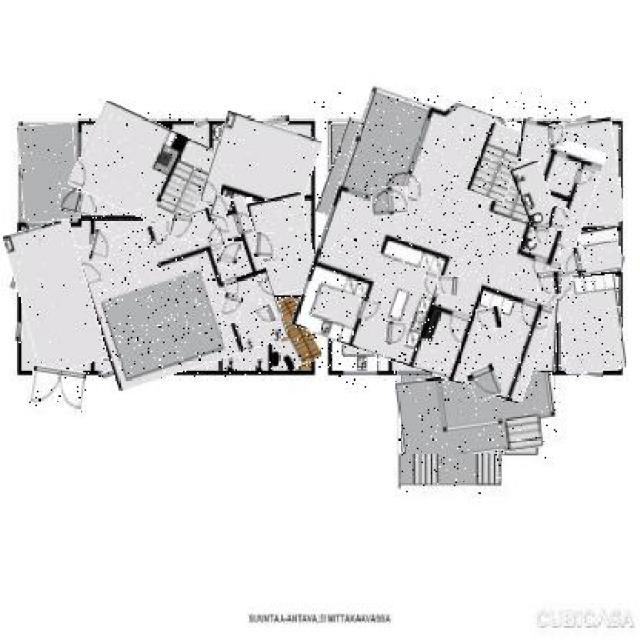door: (29, 368, 86, 414), (469, 366, 500, 400), (372, 188, 408, 215), (58, 191, 97, 214), (538, 271, 572, 294), (560, 248, 586, 275), (220, 292, 242, 323), (91, 230, 112, 262), (220, 240, 242, 269), (477, 306, 500, 331), (256, 232, 276, 258), (171, 214, 192, 238), (386, 322, 406, 344), (256, 304, 276, 324), (551, 208, 569, 230), (211, 196, 229, 218), (437, 277, 458, 295), (548, 126, 564, 148), (534, 226, 549, 245)
window: (406, 99, 466, 123), (12, 244, 28, 290), (325, 244, 337, 294), (248, 117, 289, 129), (558, 117, 592, 129), (506, 368, 543, 378), (565, 368, 603, 377), (338, 220, 372, 229), (24, 222, 64, 229), (388, 129, 392, 194), (397, 370, 432, 376), (102, 368, 123, 377), (503, 120, 532, 126), (196, 117, 210, 128), (17, 322, 23, 340), (618, 255, 624, 272), (328, 329, 334, 345), (457, 372, 469, 376)
zone: (309, 92, 589, 388), (83, 210, 279, 378), (75, 112, 214, 226), (398, 368, 558, 460), (12, 222, 98, 372), (206, 117, 317, 223), (548, 120, 620, 226), (323, 120, 394, 226), (252, 196, 316, 296), (557, 276, 623, 372), (496, 274, 558, 372), (20, 125, 78, 220), (400, 456, 502, 496), (472, 125, 523, 200), (266, 298, 316, 369), (516, 162, 556, 230), (516, 163, 556, 228), (575, 228, 620, 274), (518, 118, 554, 162), (518, 120, 550, 162), (232, 200, 257, 228)
